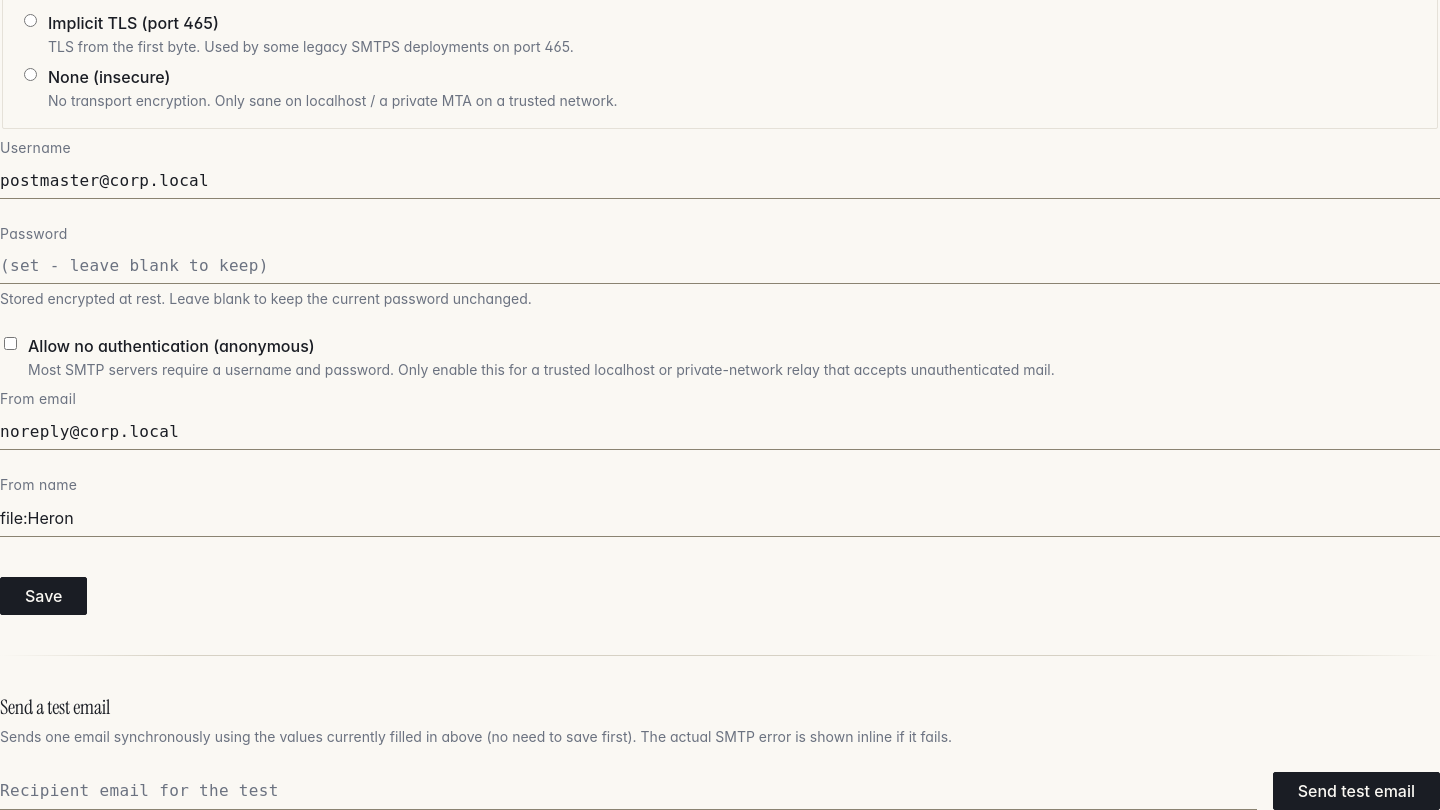
Test: AdminSettingsEmail › opens the password dialog when the server asks for re-auth
(page scrolled)
Type "ops@example.com" into the field with placeholder "Recipient email for the test".
click(628, 790); type("ops@example.com")  # box [0, 772, 1257, 809]
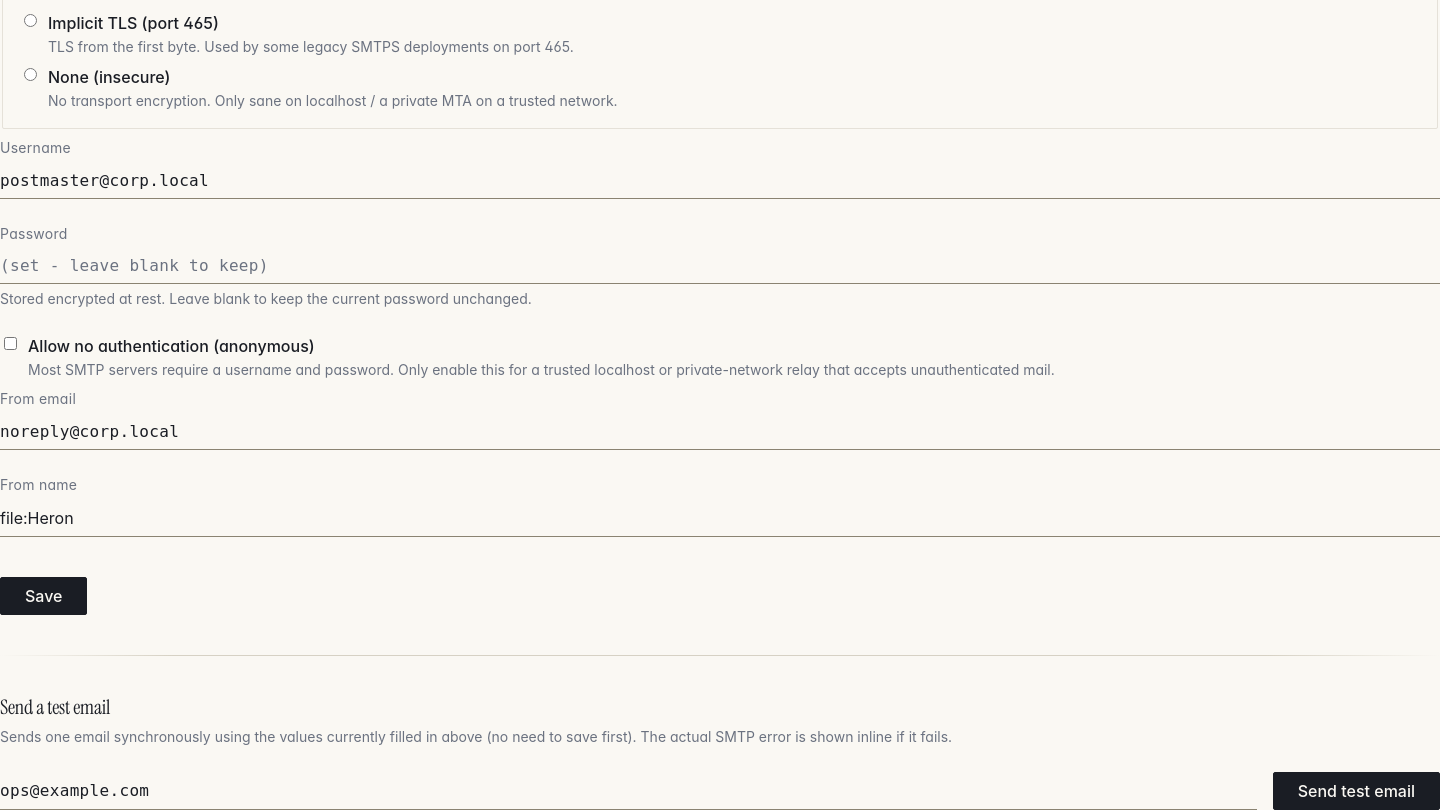
Click the button "Send test email".
click(1356, 790)  # box [1273, 772, 1439, 809]
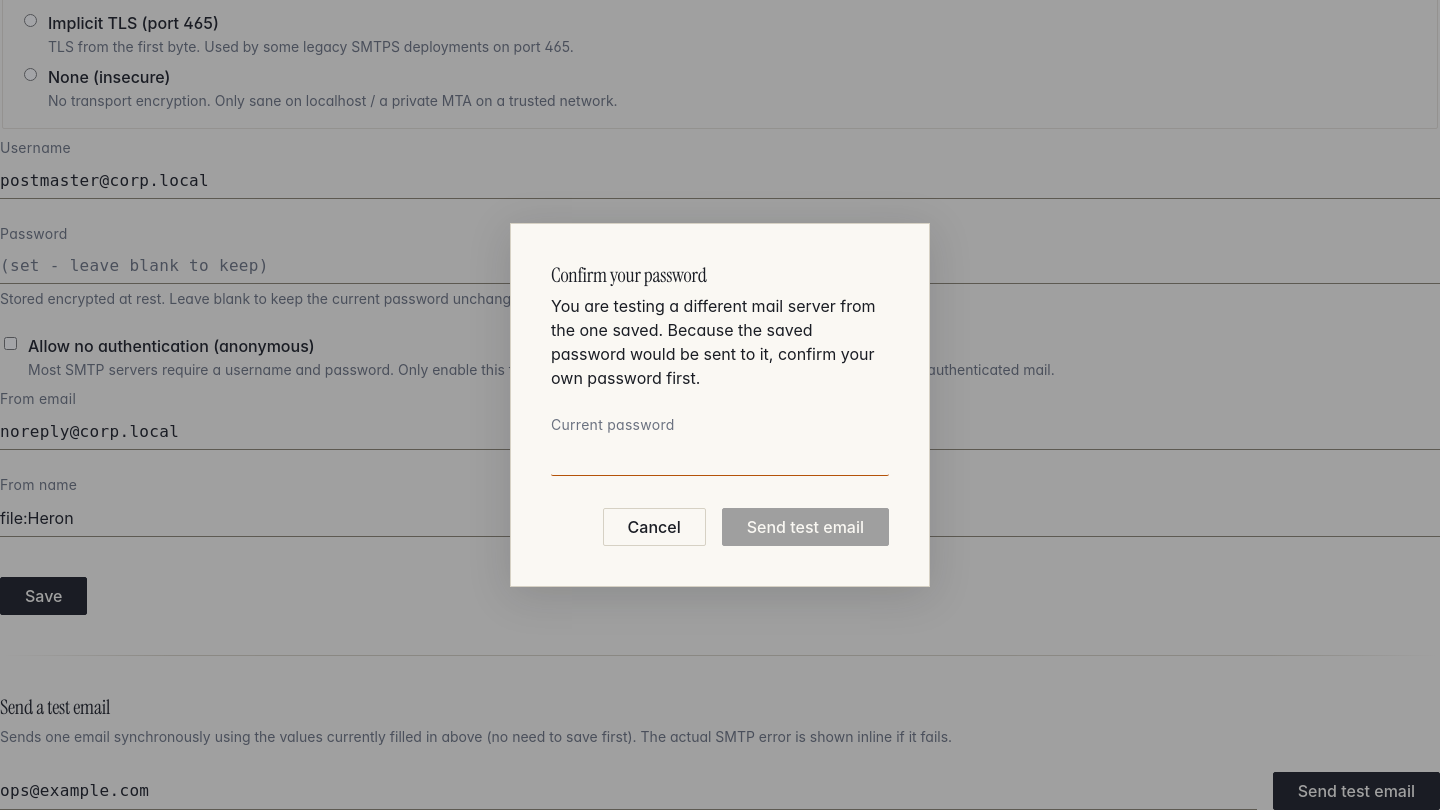
Now the dialog with test id "step-up-dialog" is shown
Now the dialog with test id "step-up-dialog" shows "Confirm your password", box [551, 262, 707, 288]
